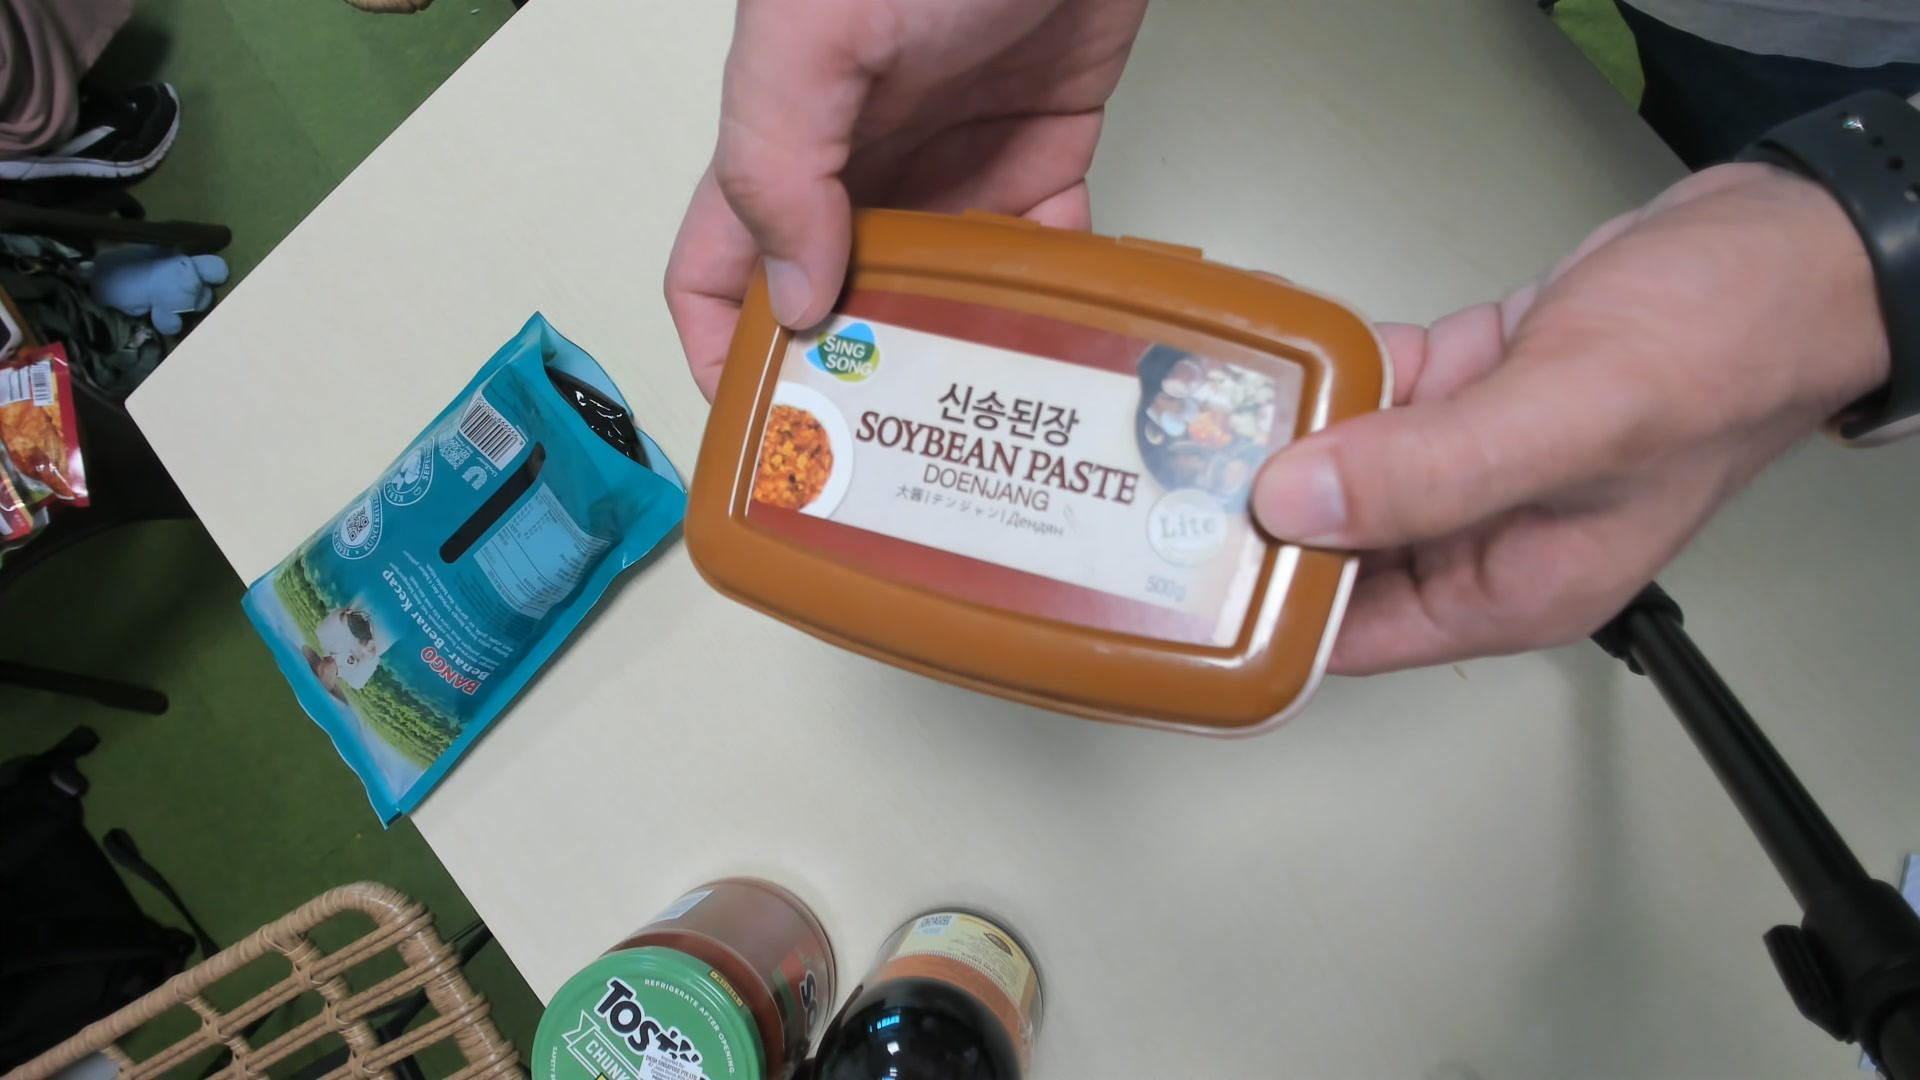OtherSauceDressing_500-599g_NonHalal_NonHealthy: (684, 210, 1394, 723)
